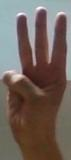W: (1, 4, 71, 152)
